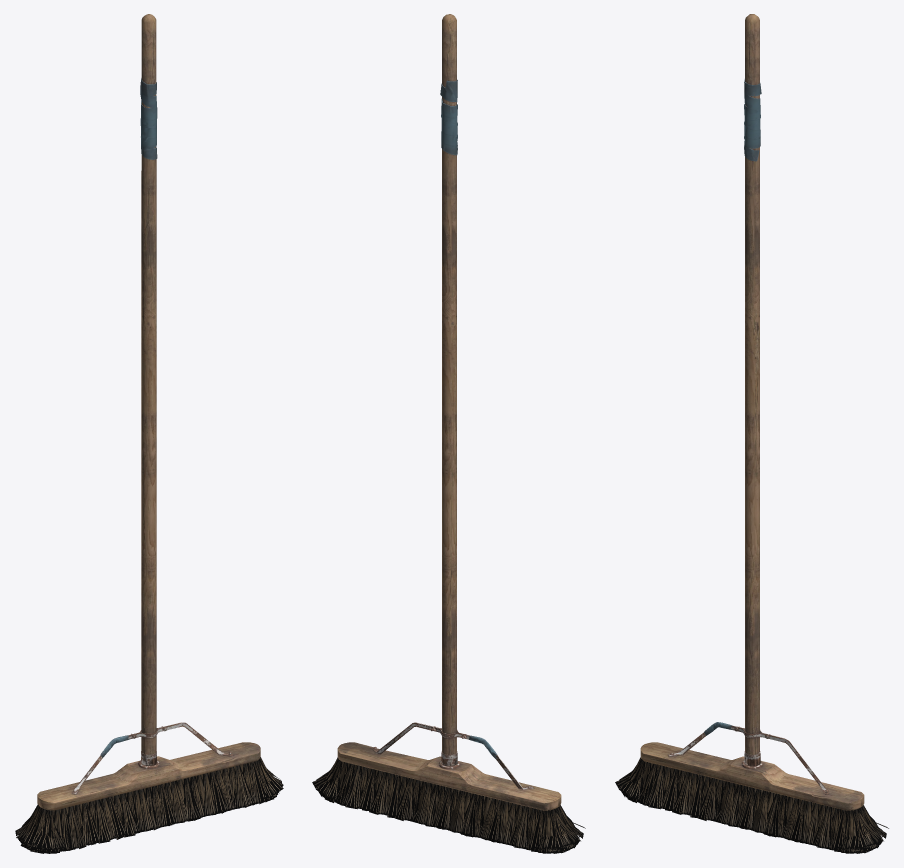
File: wooden_broom.glb
The picture shows the model from 3 angles, left to right: view 1: azimuth 30°, elevation 25°; view 2: azimuth 150°, elevation 25°; view 3: azimuth 330°, elevation 25°; orthographic projection.
Visible parts, largest first — view 1: wooden_broom_handle, wooden_broom_bristles, wooden_broom; view 2: wooden_broom_handle, wooden_broom_bristles, wooden_broom; view 3: wooden_broom_handle, wooden_broom_bristles, wooden_broom.
Part boxes in pixels (box(x1,y1,x2,y2)): wooden_broom_handle: box(140, 14, 157, 765); wooden_broom_bristles: box(15, 757, 283, 853); wooden_broom: box(37, 722, 260, 817); wooden_broom_handle: box(440, 14, 457, 766); wooden_broom_bristles: box(312, 757, 585, 853); wooden_broom: box(337, 722, 565, 824); wooden_broom_handle: box(744, 14, 761, 766); wooden_broom_bristles: box(615, 757, 888, 853); wooden_broom: box(640, 722, 864, 826).
Bounding box in the file's own units: 0.4902 × 1.45 × 0.1125.
Materials: 2 (2 with a texture image).
